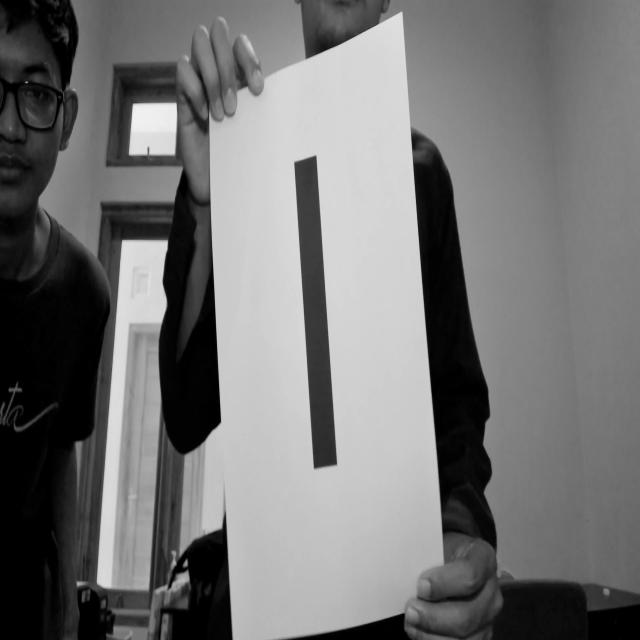i: (270, 140, 365, 497)
